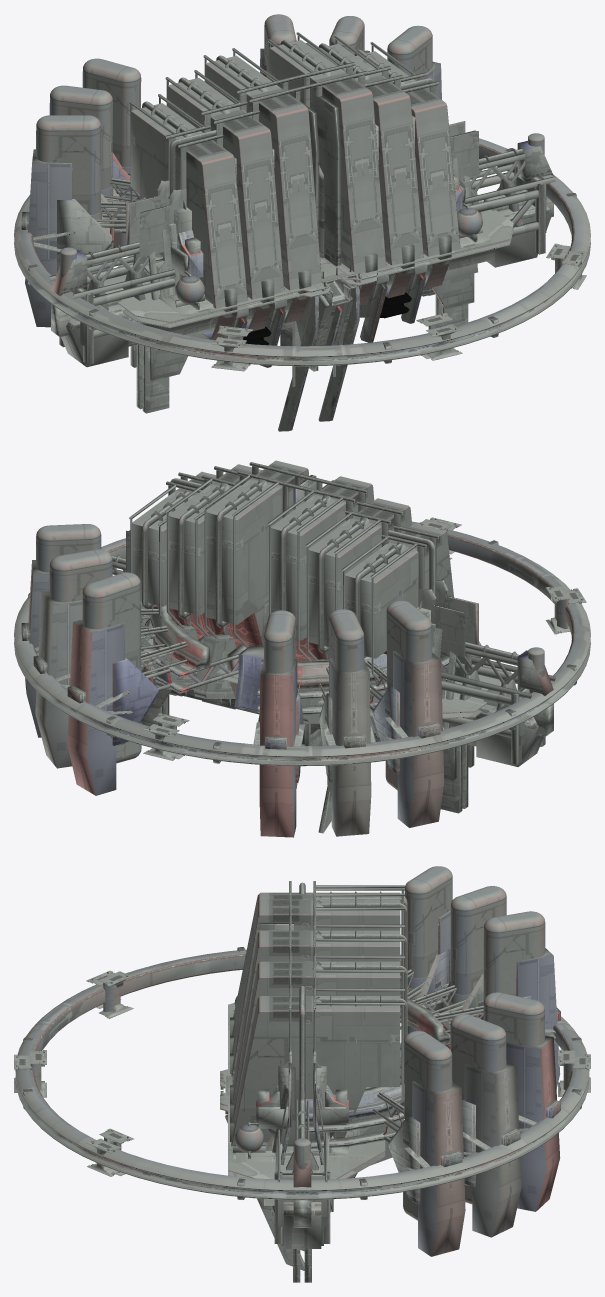
File: athanor_lod0.glb
3 views of the same model, one above another, from view 1: azimuth 30°, elevation 25°; view 2: azimuth 150°, elevation 25°; view 3: azimuth 270°, elevation 25° (orthographic).
Visible parts, largest first — view 1: athanor_lod0; view 2: athanor_lod0; view 3: athanor_lod0.
Boxes of the visible parts, box(x1,y1,x2,y2) form: athanor_lod0: box(14, 14, 590, 431); athanor_lod0: box(14, 460, 590, 837); athanor_lod0: box(14, 866, 590, 1282).
Bounding box in the file's own units: 300 × 199 × 302.
Materials: 2 (2 with a texture image).
